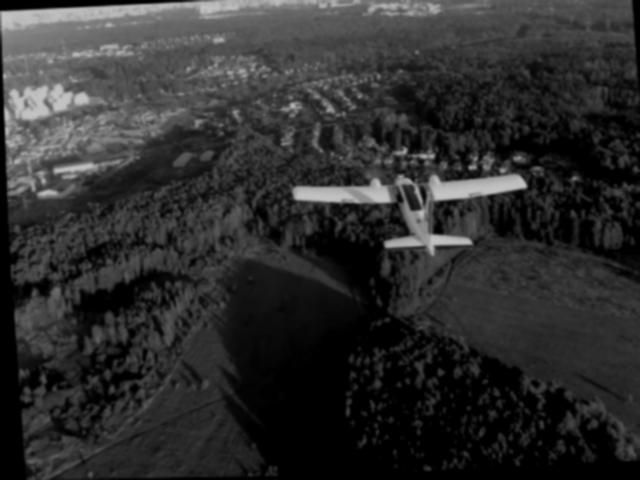hedef: (285, 161, 539, 270)
